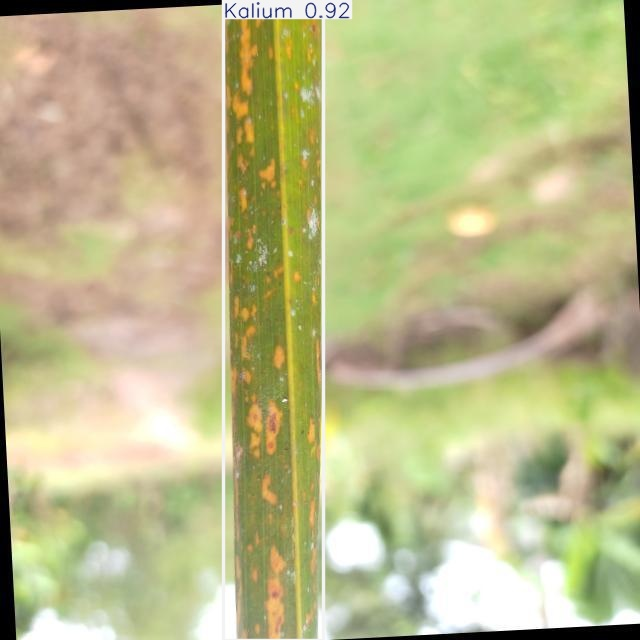Kalium: (223, 0, 323, 640)
